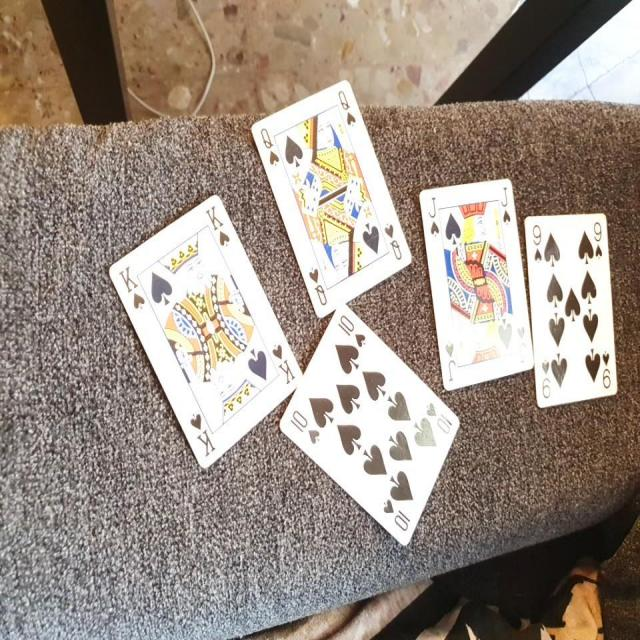10 Spades: (276, 305, 462, 545)
9 Spades: (520, 200, 625, 415)
J Spades: (414, 167, 538, 392)
K Spades: (102, 188, 298, 471)
Q Spades: (243, 73, 419, 318)
